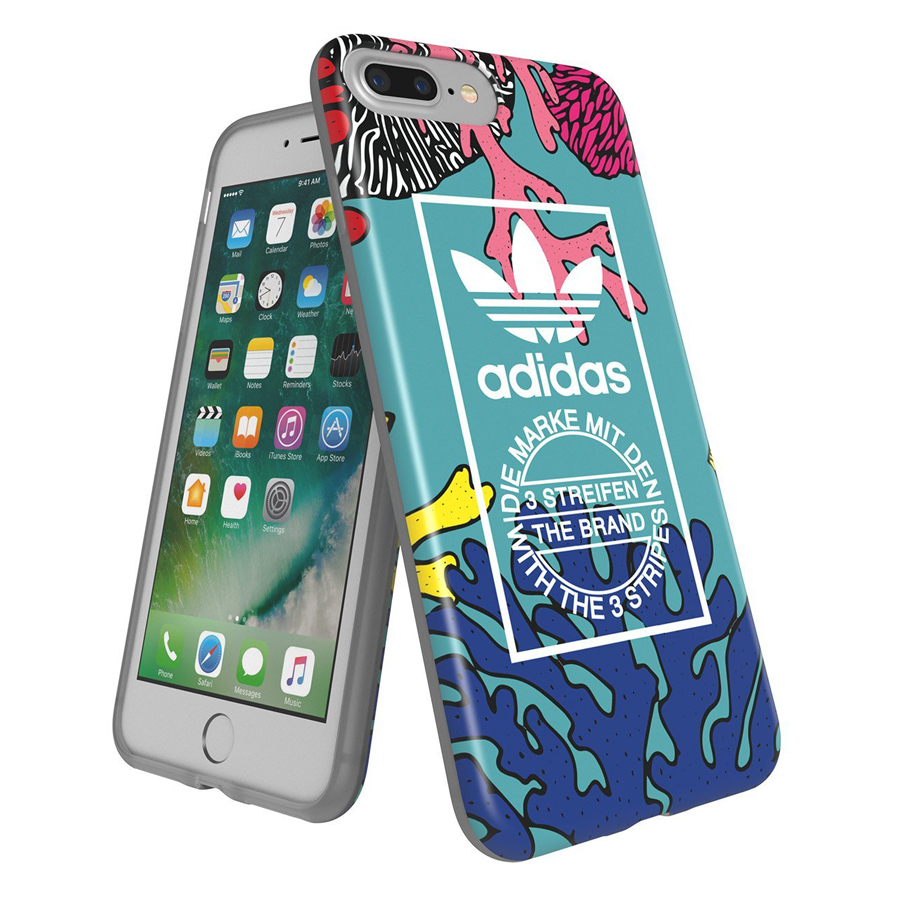Adidas: (433, 213, 635, 401)
